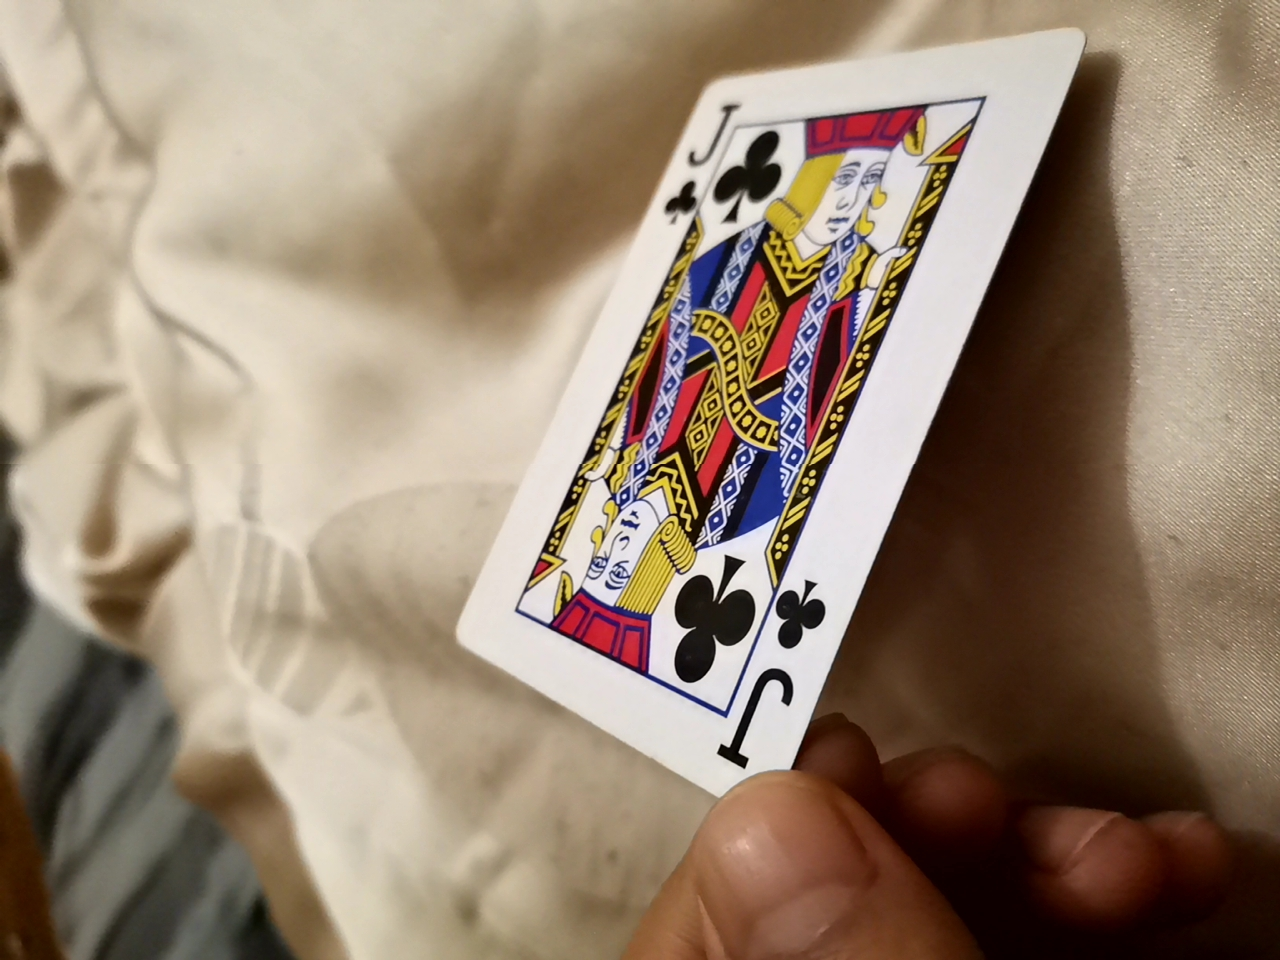mh j: (430, 43, 1083, 800)
